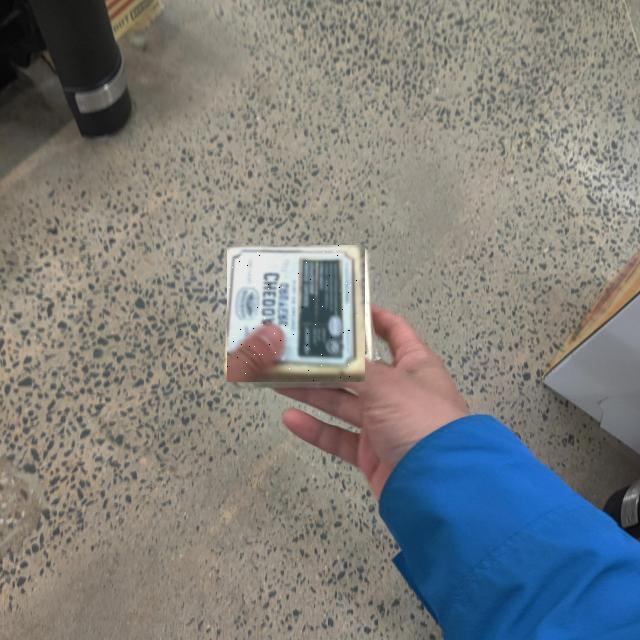Cheese: (227, 245, 365, 382)
